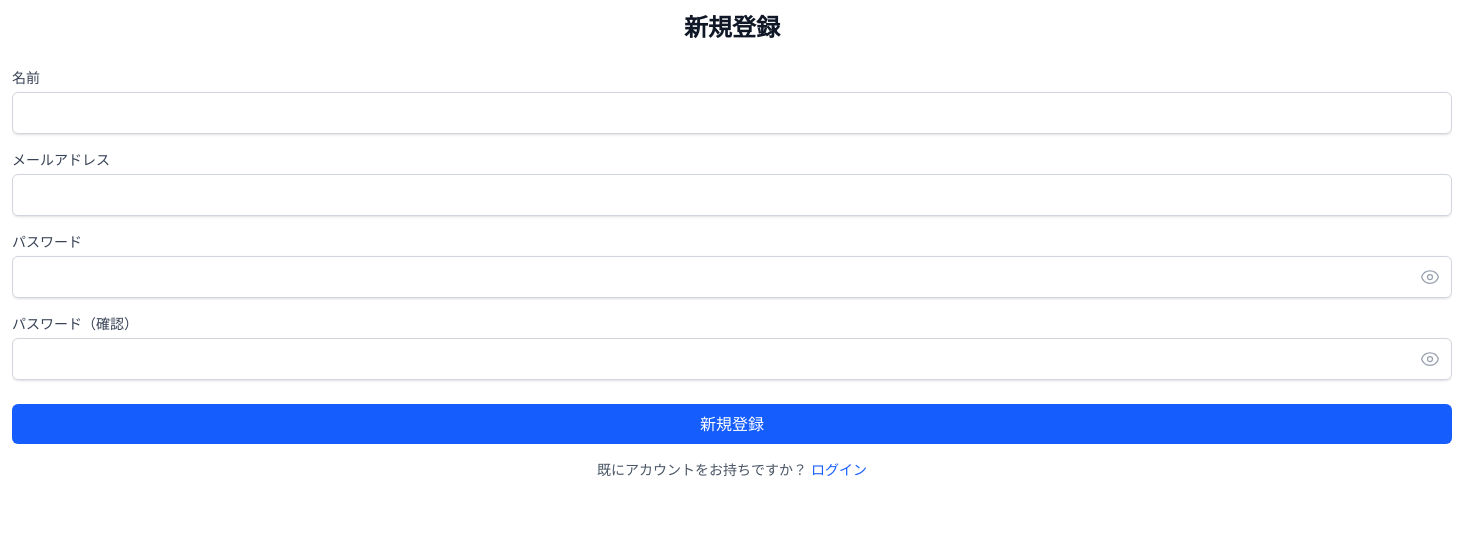
Test case: Register › パスワード不一致でエラーが表示される
In the field below "名前": coordinates (732, 113) [12, 92, 1452, 134], type "テスト"
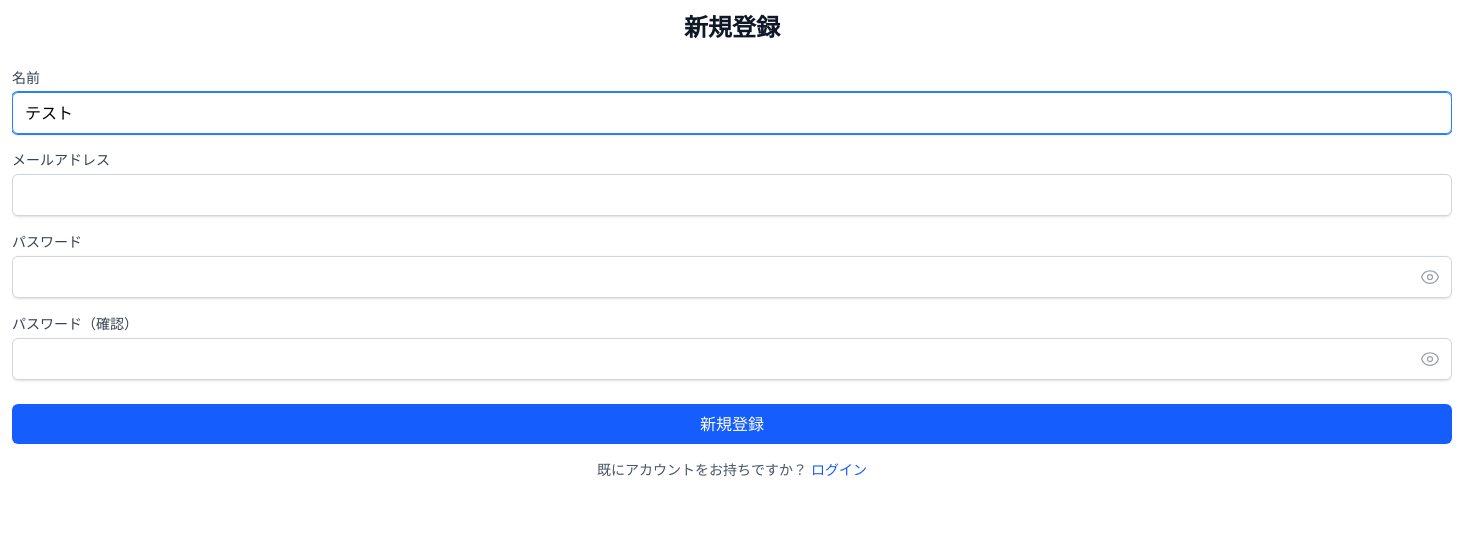
In the field below "メールアドレス": coordinates (732, 195) [12, 174, 1452, 216], type "test@example.com"
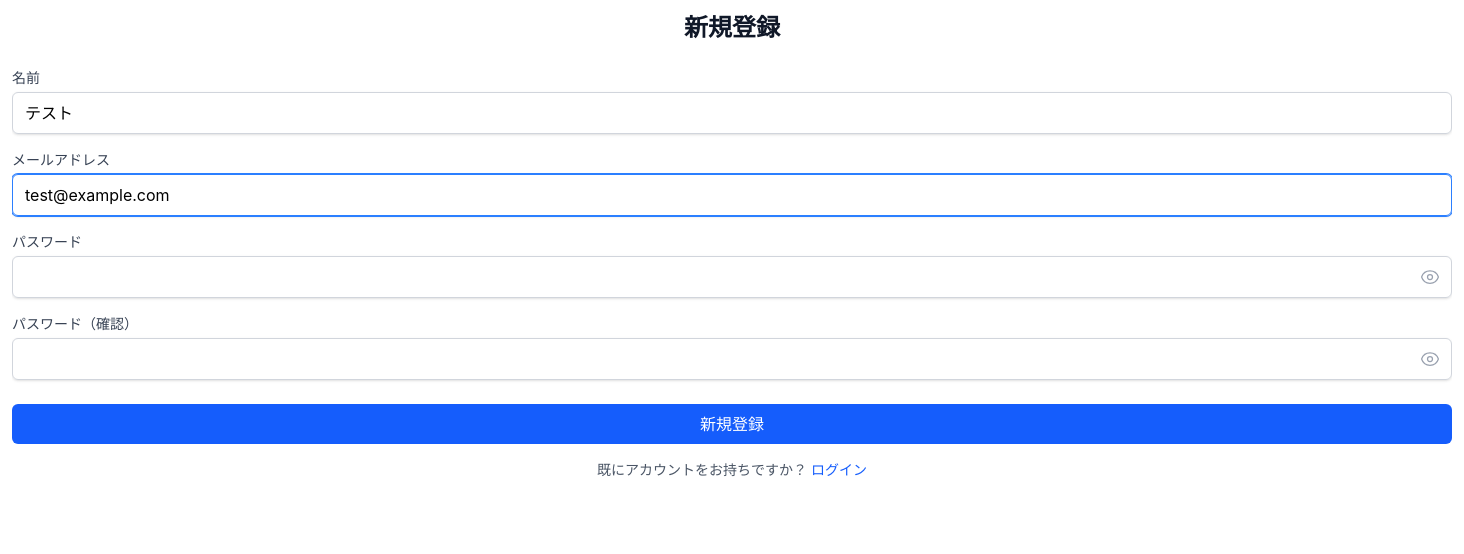
In the 1st password field: coordinates (732, 277) [12, 256, 1452, 298], type "password123"
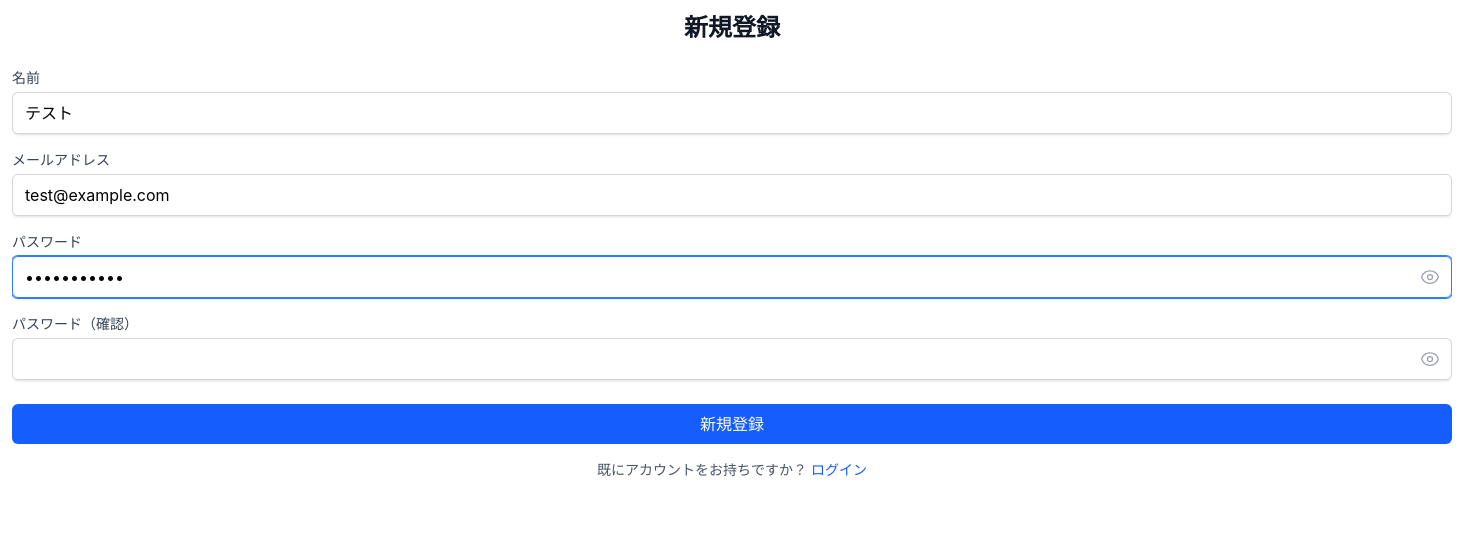
In the password field below "パスワード（確認）": coordinates (732, 359) [12, 338, 1452, 380], type "different123"
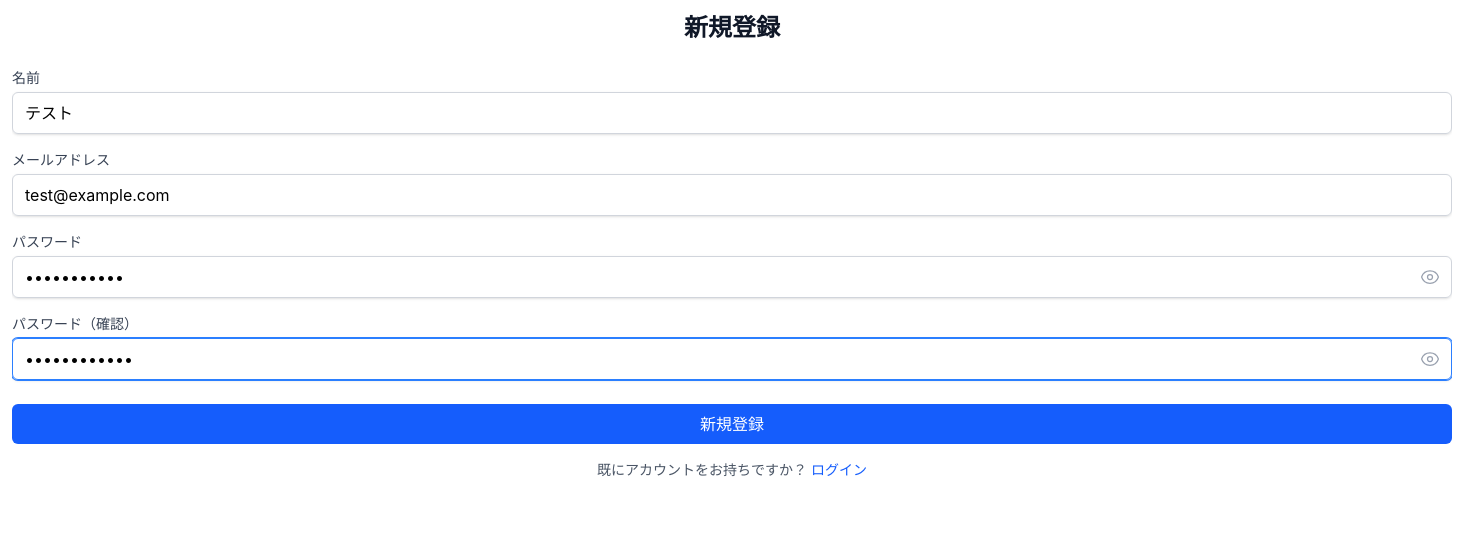
Click the button "新規登録": coordinates (732, 424) [12, 404, 1452, 444]
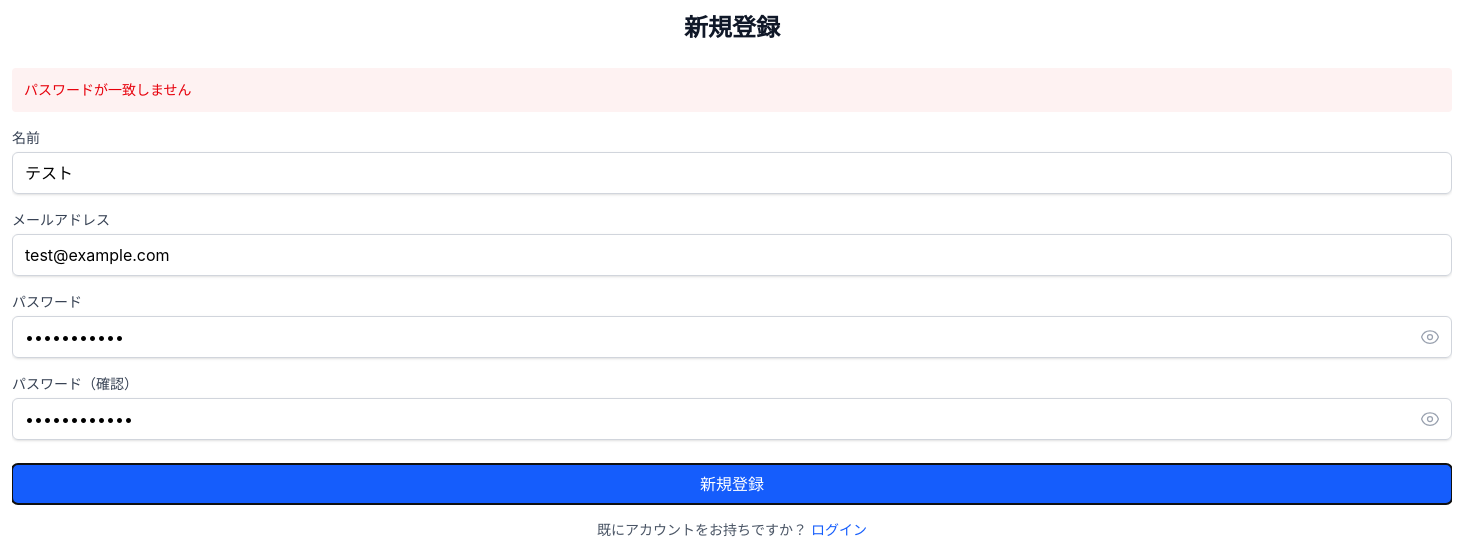
Expected: the text "パスワードが一致しません" is shown, [12, 68, 1452, 112]
